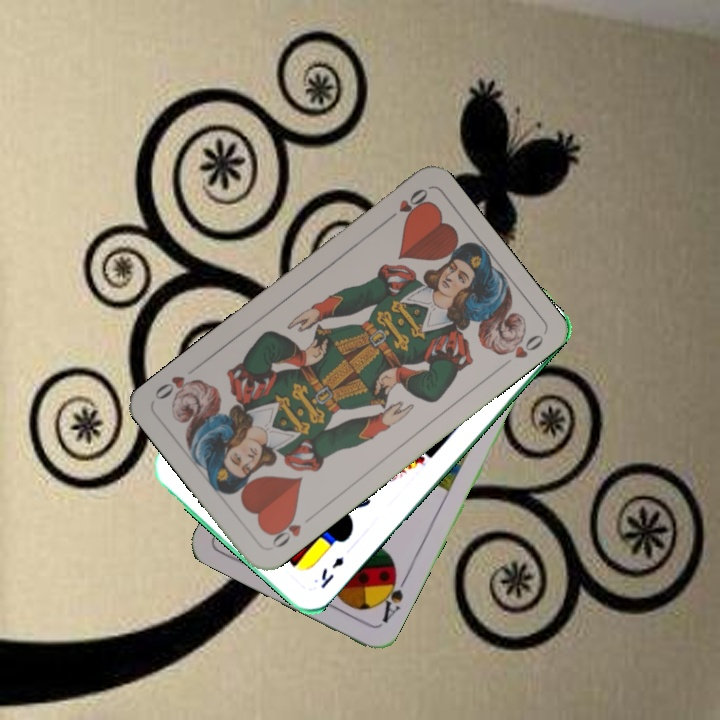EK: (316, 553, 347, 592)
HO: (380, 184, 431, 227), (265, 510, 304, 551)
SA: (373, 567, 410, 626)
